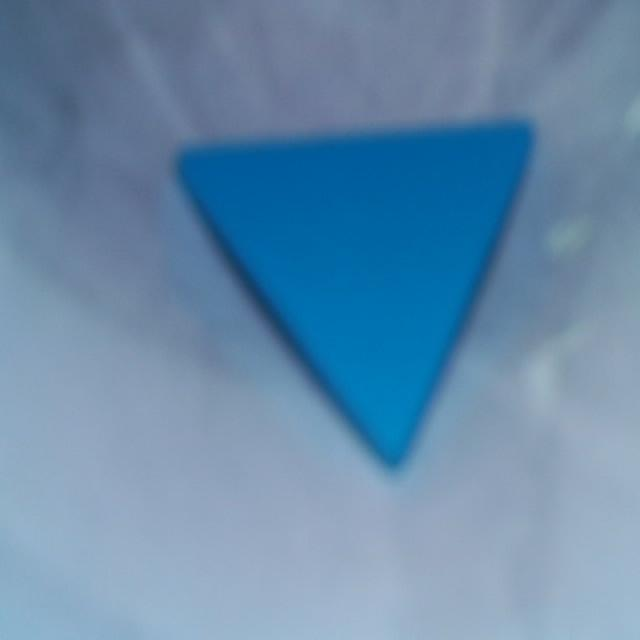triangle: (178, 123, 533, 465)
